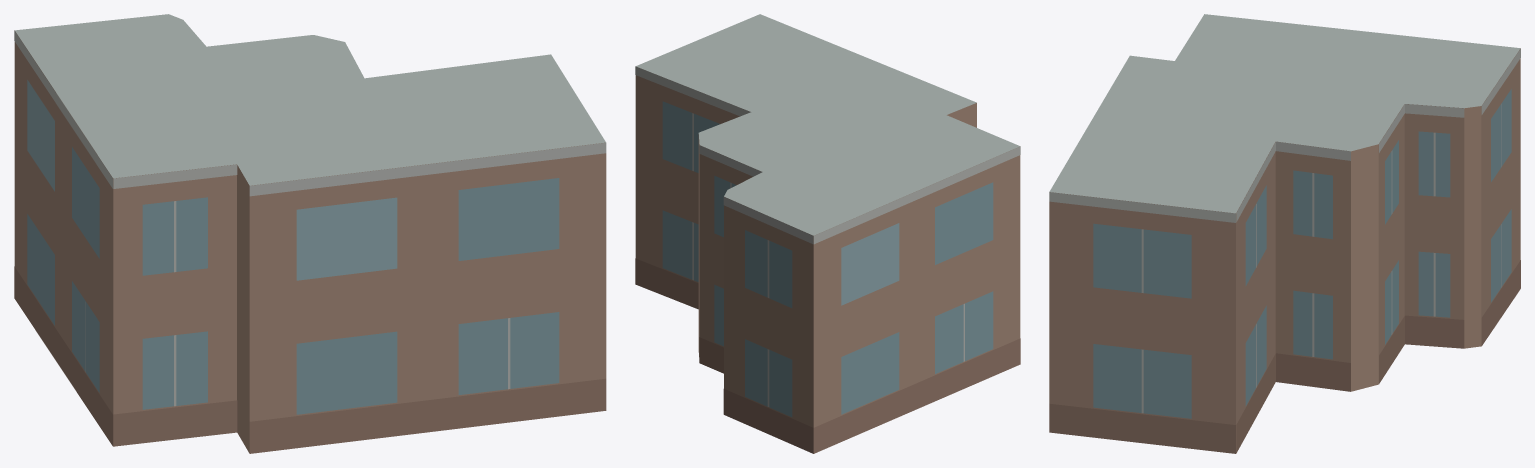
File: survey-upis-32830356.glb
The picture shows the model from 3 angles, left to right: view 1: azimuth 30°, elevation 25°; view 2: azimuth 150°, elevation 25°; view 3: azimuth 270°, elevation 25°; orthographic projection. The views are drawn at different scales.
Parts seen in each view (by area): view 1: survey-upis-32830356.tmp; view 2: survey-upis-32830356.tmp; view 3: survey-upis-32830356.tmp.
Boxes of the visible parts, <box> form: survey-upis-32830356.tmp: <box>14,14,606,453</box>; survey-upis-32830356.tmp: <box>635,14,1020,453</box>; survey-upis-32830356.tmp: <box>1049,14,1520,453</box>.
Size of the model in its own units: 10.86 by 6.1 by 10.85.
